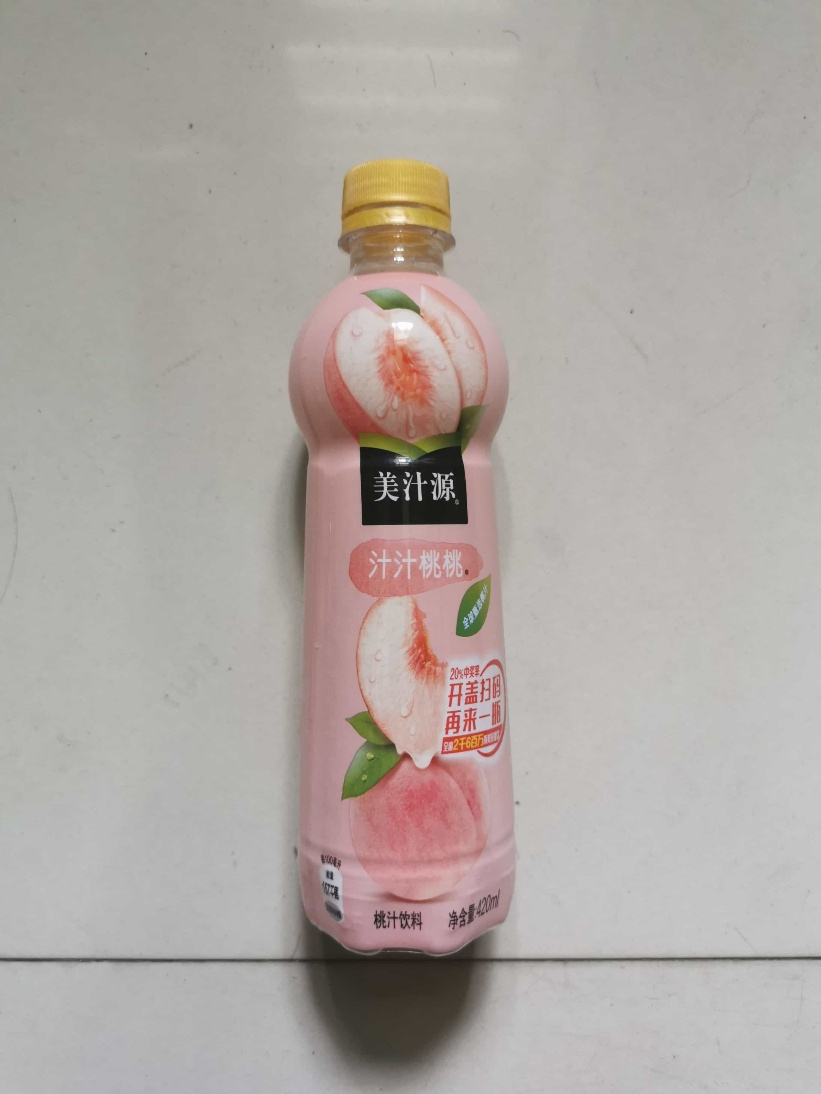plastic bottle: (277, 150, 532, 972)
